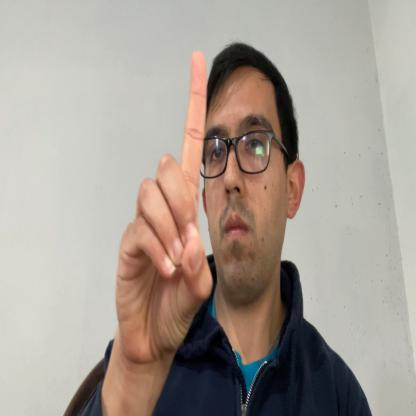D: (115, 51, 214, 362)
